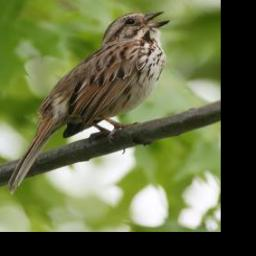Sparrow: (7, 7, 174, 194)
